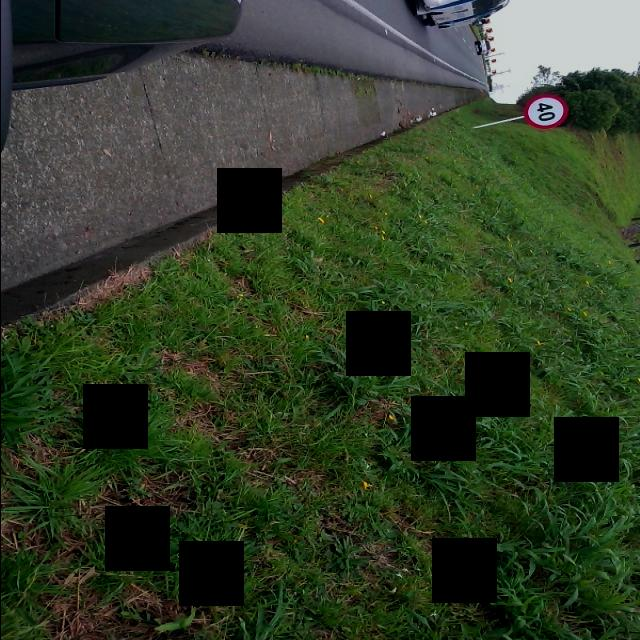DITCH: (5, 124, 639, 639), (2, 48, 490, 328), (2, 28, 410, 257)
